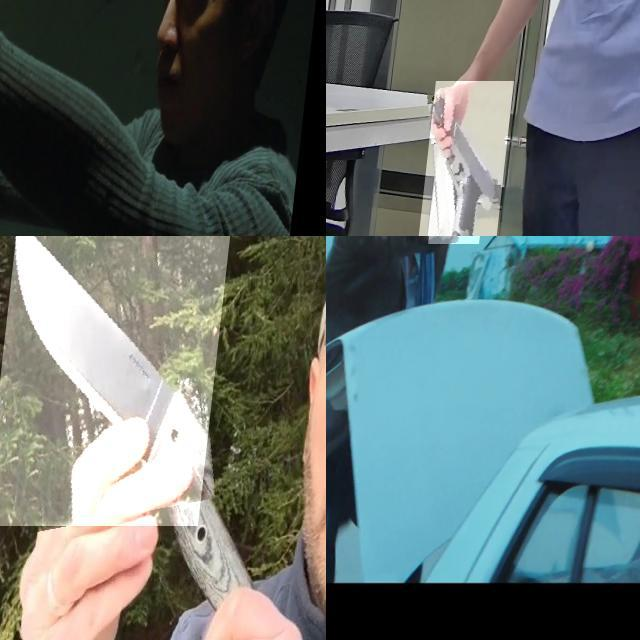-: (0, 236, 236, 526)
gun-knife-thesis - v11 Yolov5 augmented: (428, 81, 521, 236), (0, 0, 112, 112), (0, 0, 79, 151), (433, 236, 493, 287)
